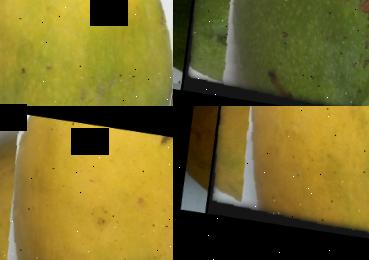PartiallyRipe: (0, 106, 173, 260), (0, 0, 173, 106)
Ripe: (194, 106, 369, 259)
Unripe: (173, 0, 369, 106)
